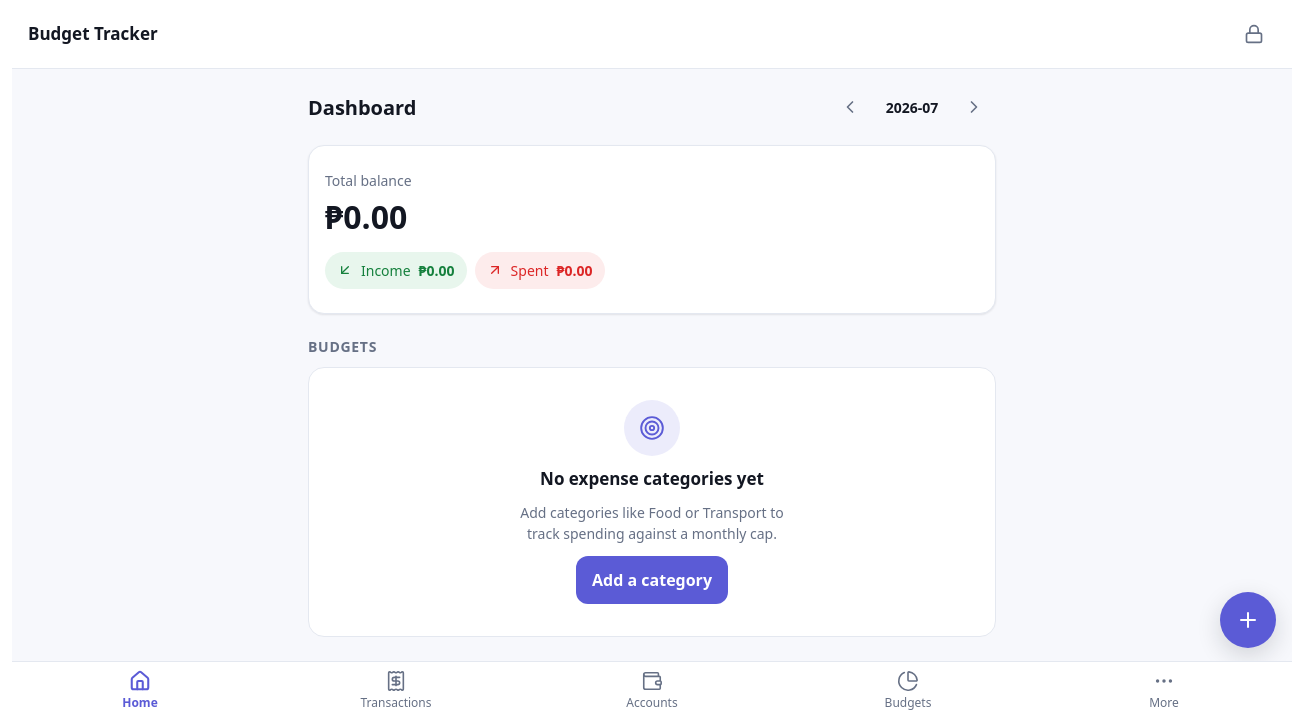
Test: CategoriesScreen › preset swatches set the category color
Expected: the button named "Lock" is shown, [1232,12,1276,56]
Click the button "Budgets" at (908, 691), box [780,662,1036,719]
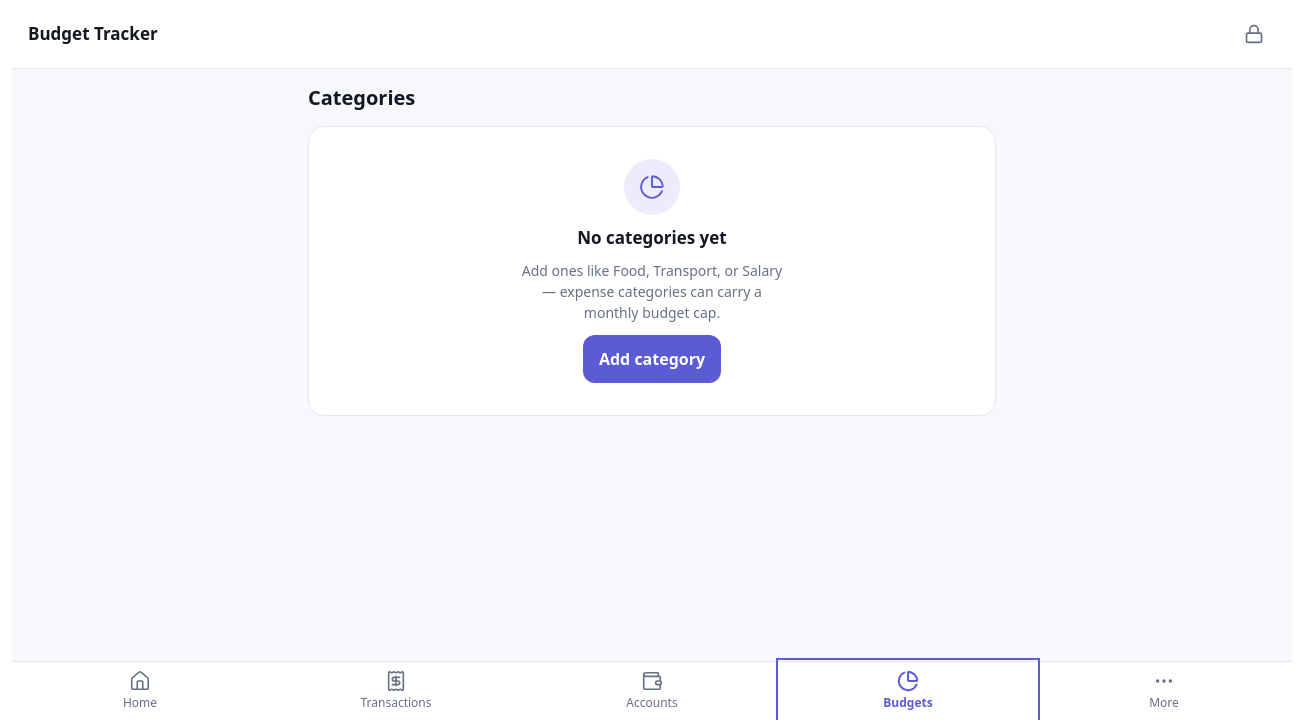
Click the button "Add category" at (652, 359), box [583,335,721,383]
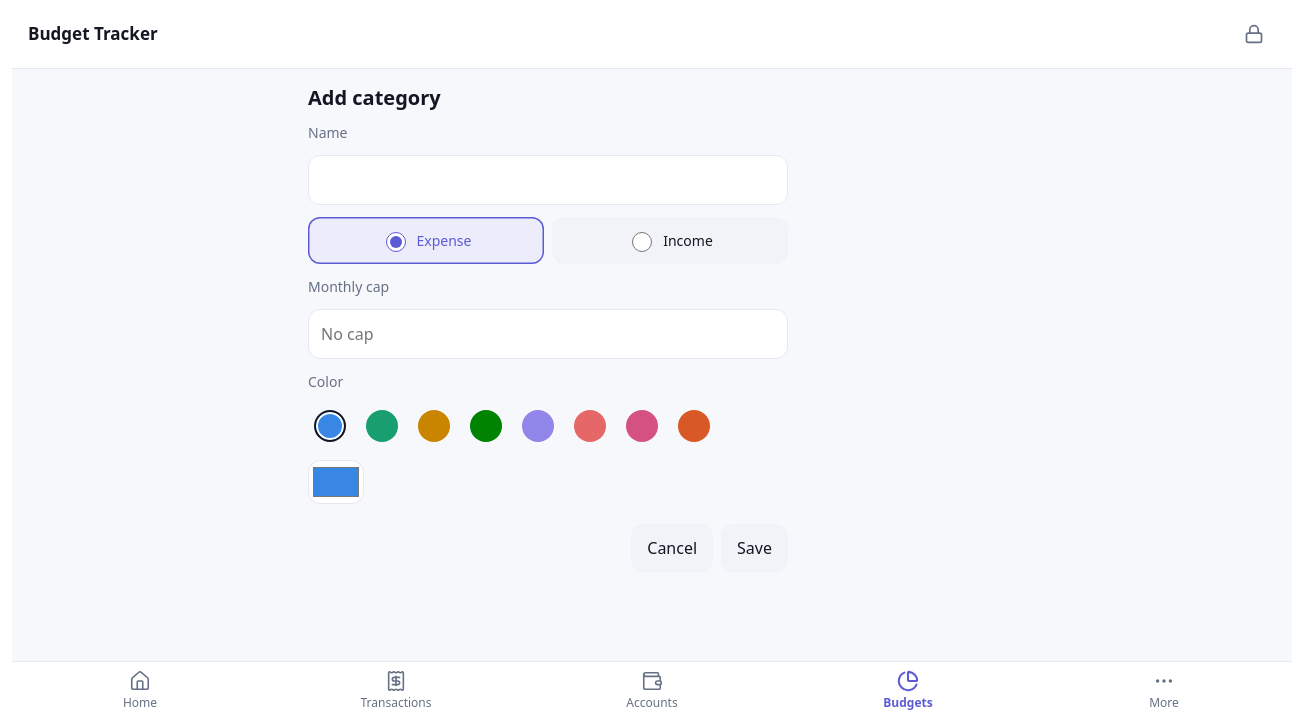
Type "Bills" into the field labelled "Name" at (548, 180), box [308,155,788,205]
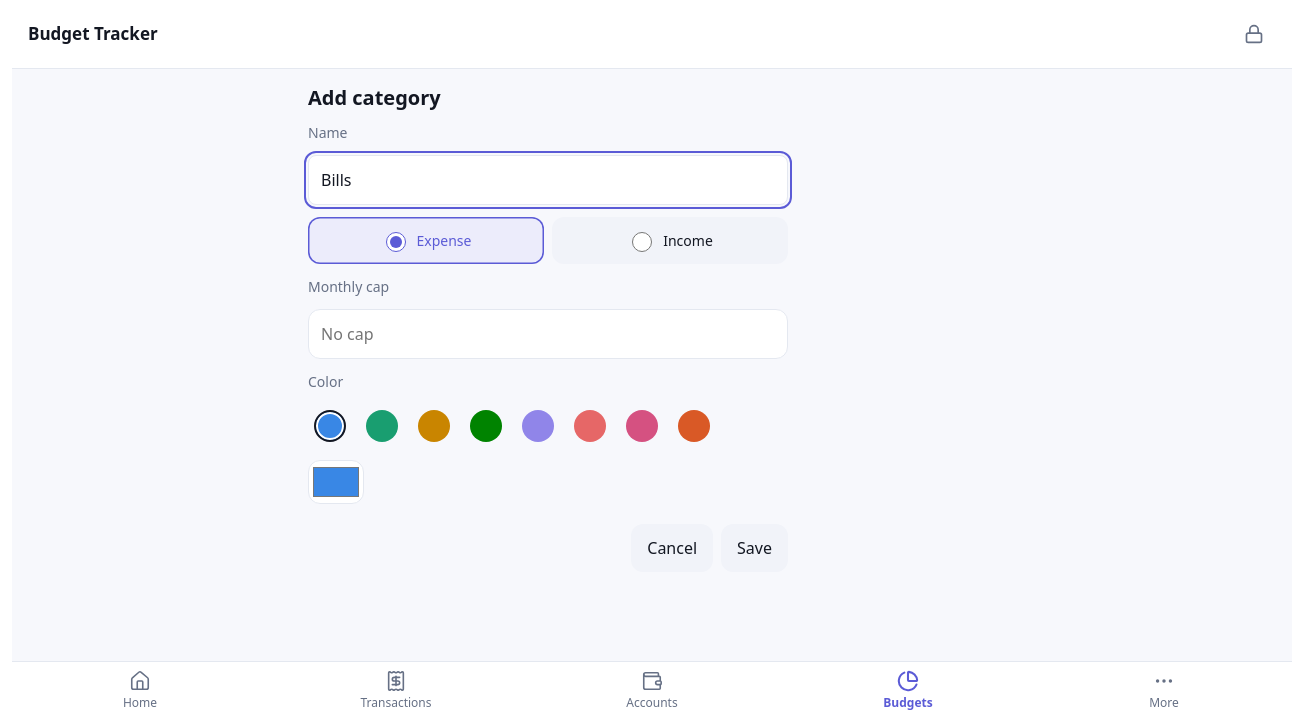
Click the button named "Color option 3" at (434, 426), box [412,404,456,448]
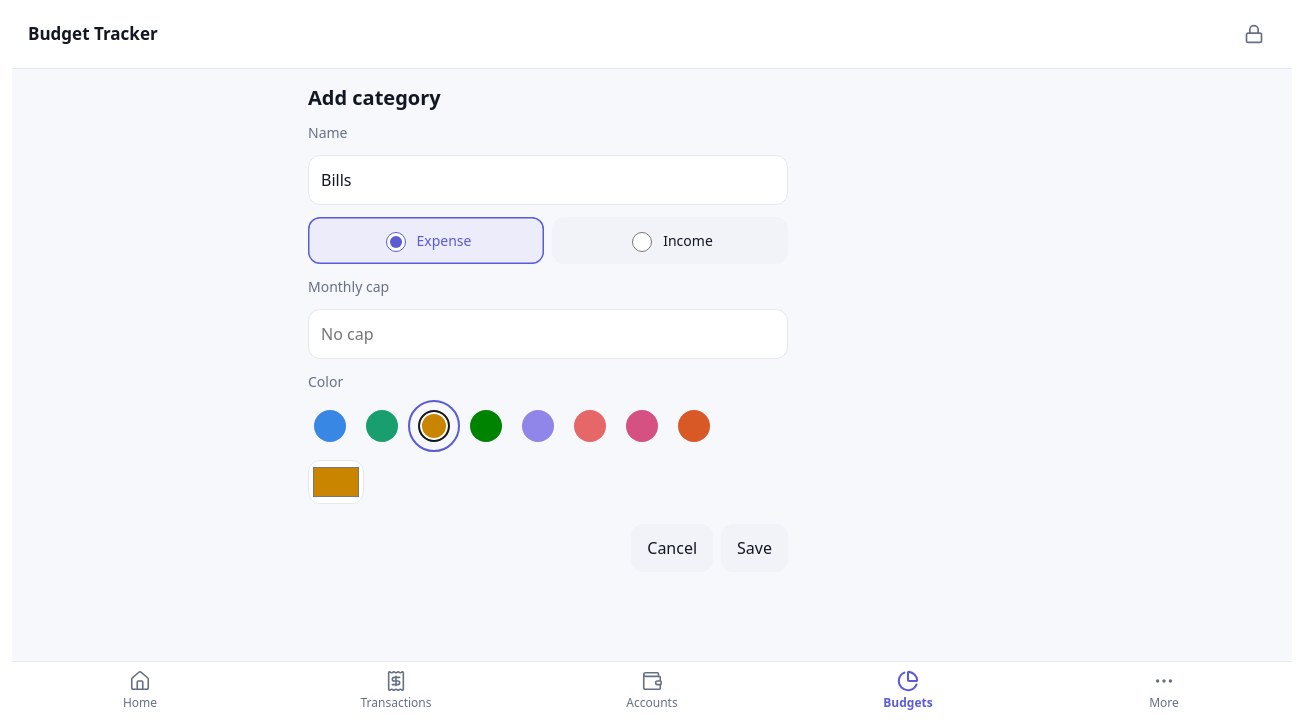
Click the button "Save" at (755, 548), box [721,524,788,572]
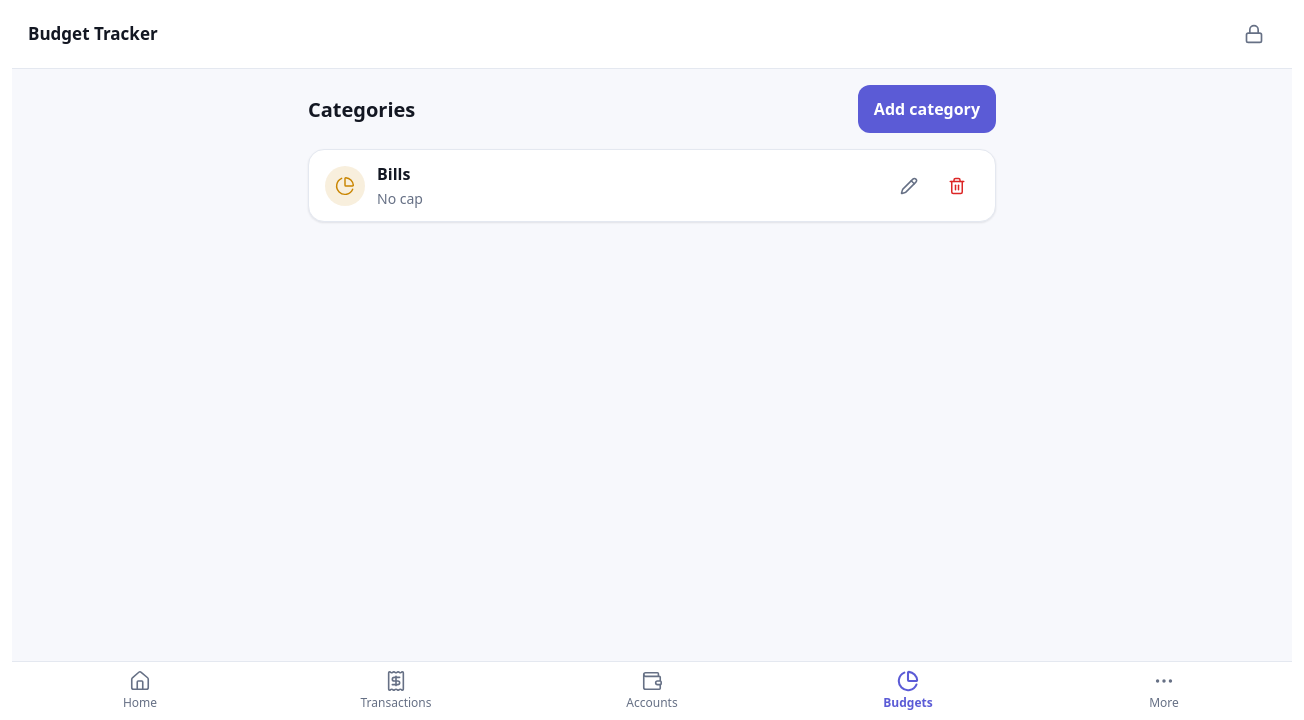
Expected: the text "Bills" is shown, [377,163,410,185]
